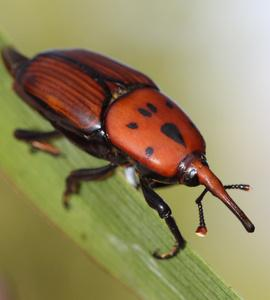Curculionidae: (2, 45, 255, 260)
